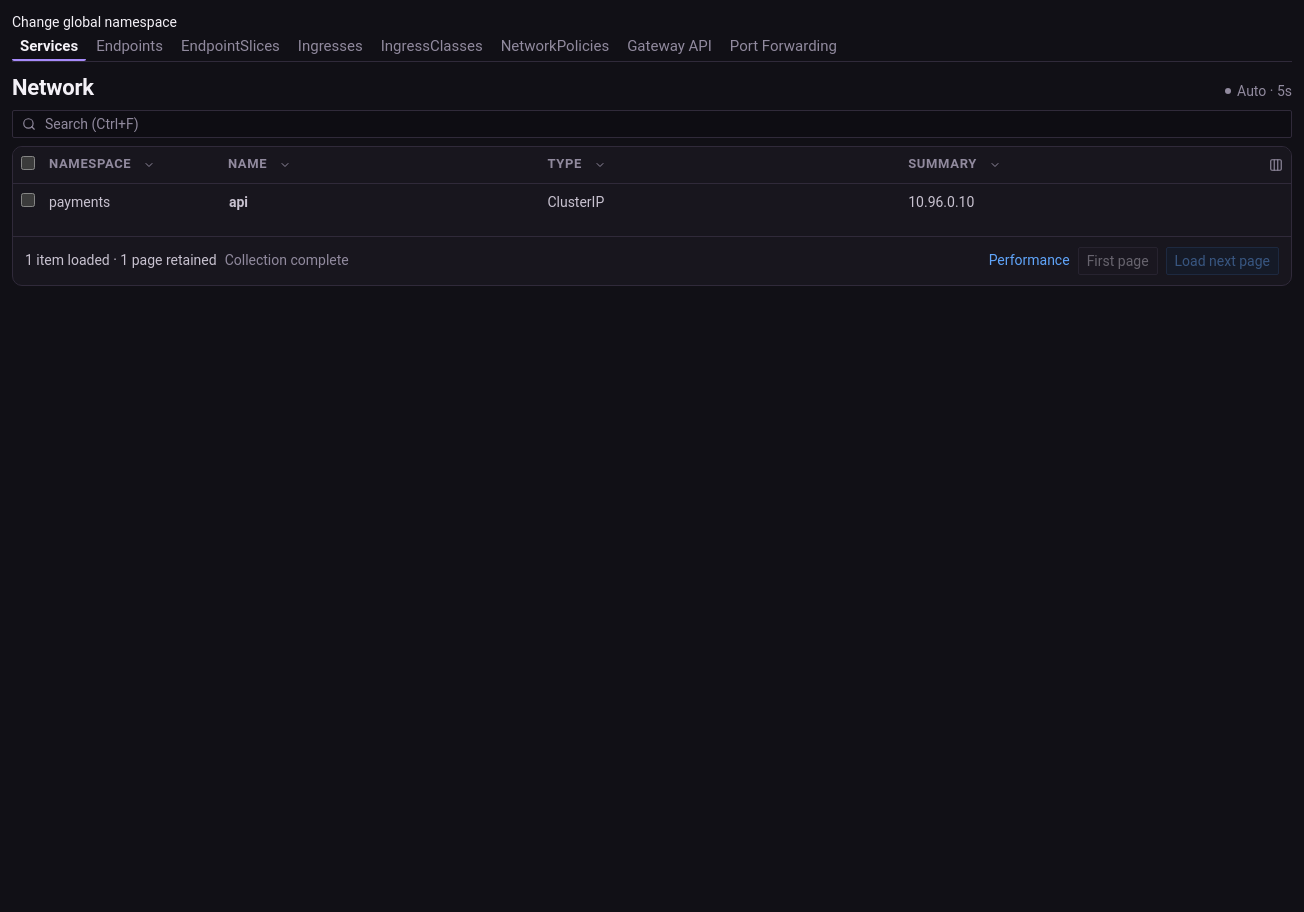
Test case: read-only resource pages › starts a Service port-forward only after all prerequisite permissions are allowed
Click the button with aria-label "Open services api in payments" at (238, 202), box [220, 188, 257, 216]
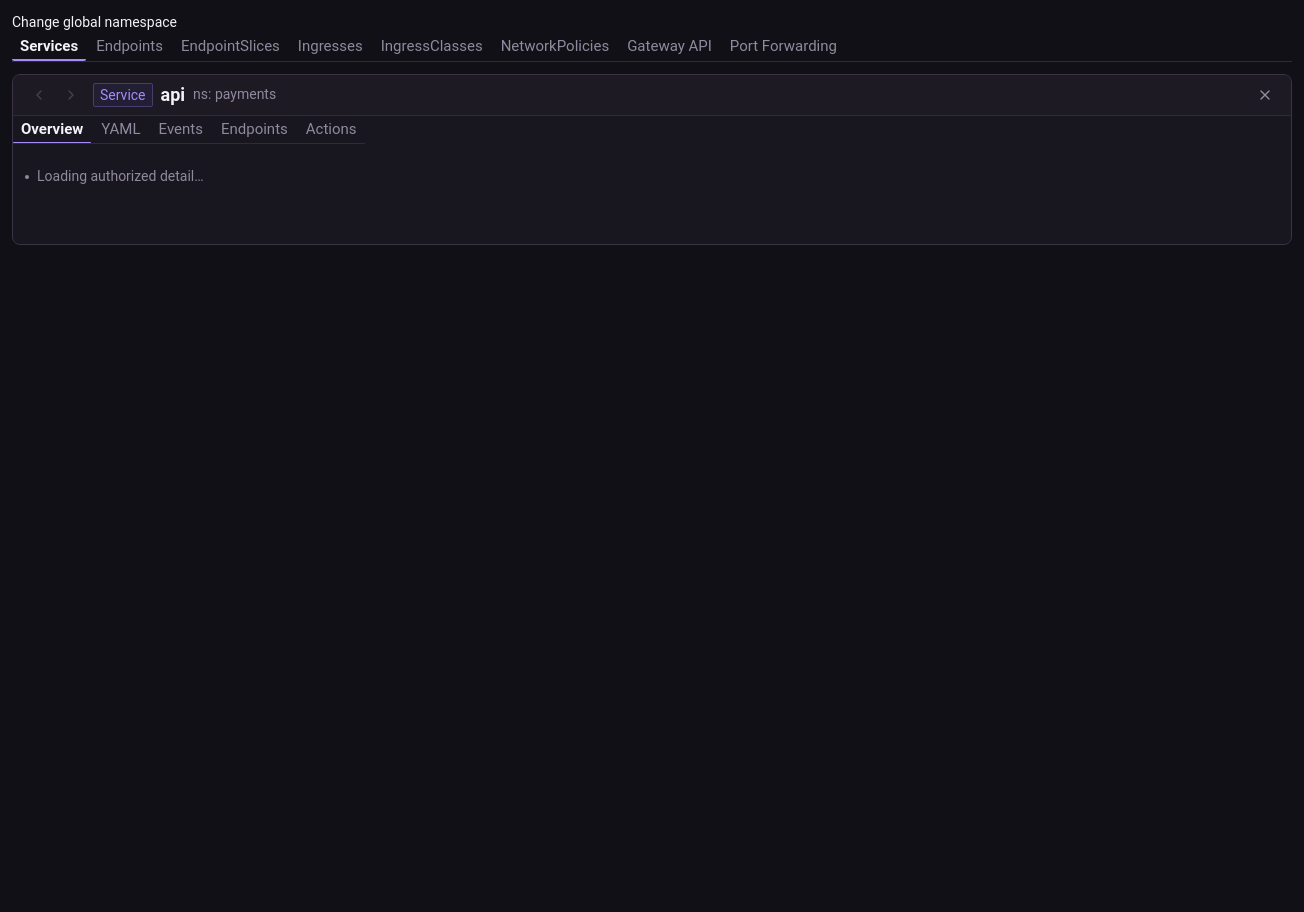
Click the tab "Actions" at (331, 130), box [298, 116, 365, 144]
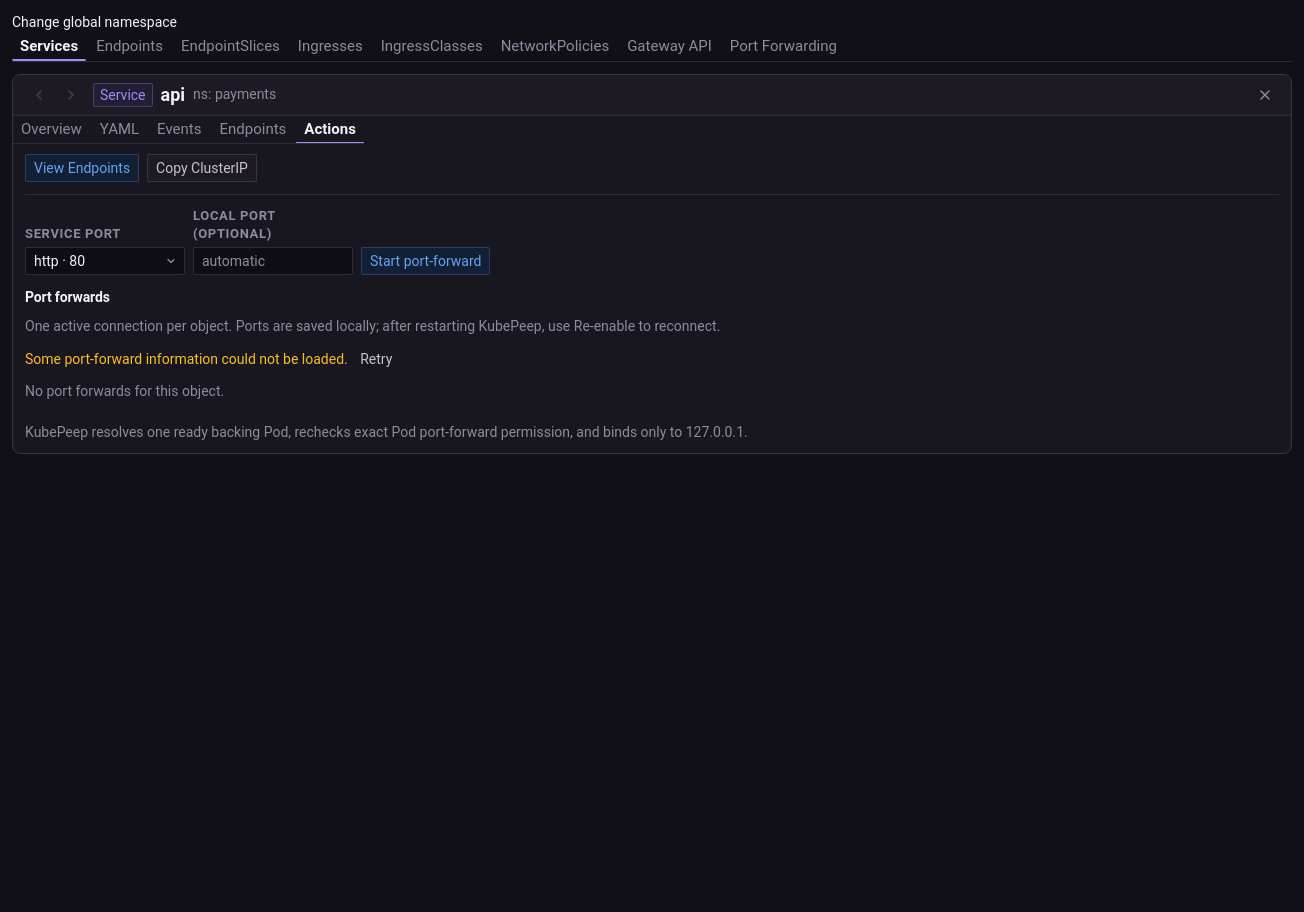
Check: the button "Start port-forward" is enabled
Click the button "Start port-forward" at (426, 261), box [361, 247, 490, 275]
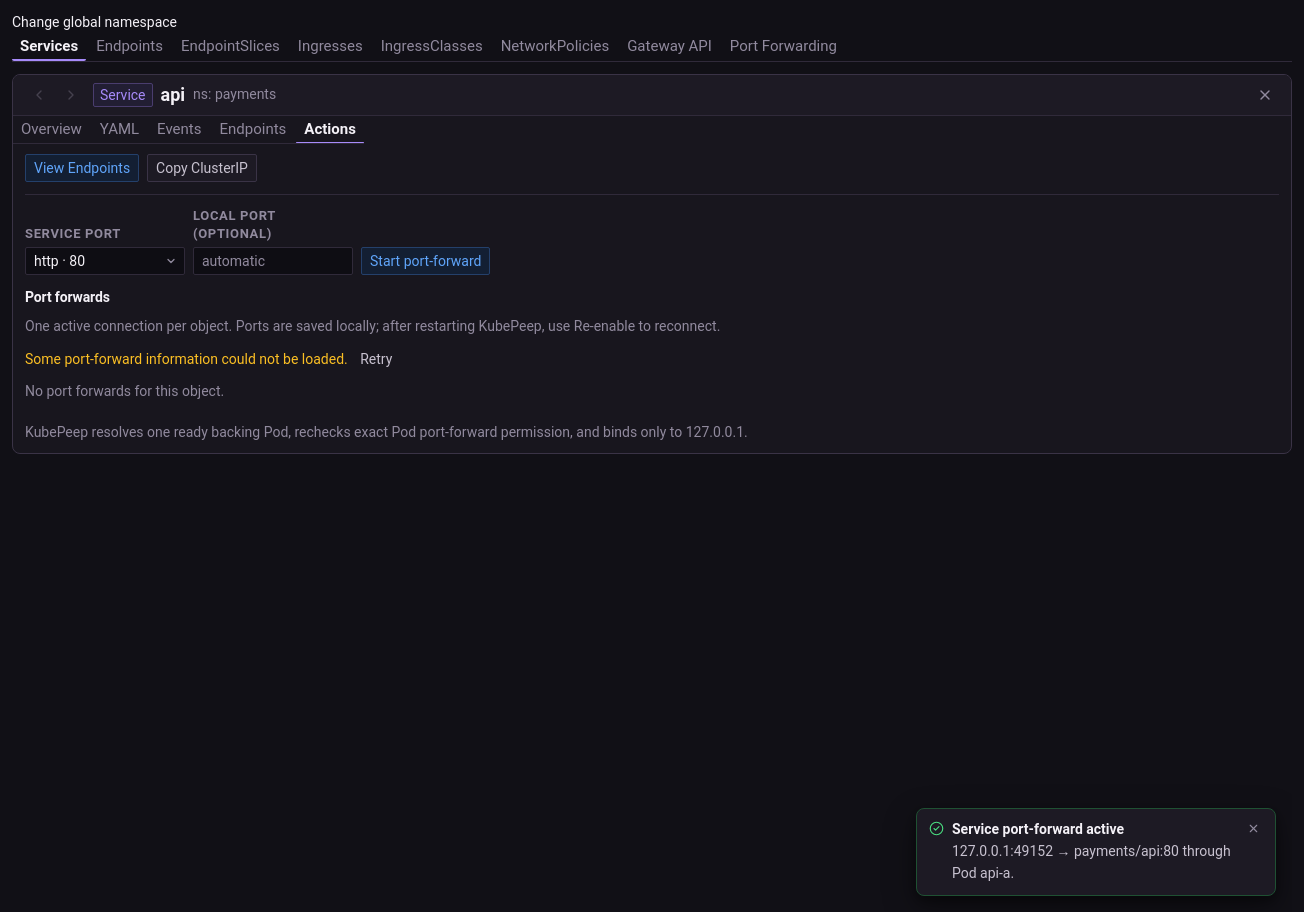
Check: the message that starts with "Service port-forward active" is shown, box [952, 820, 1124, 836]
